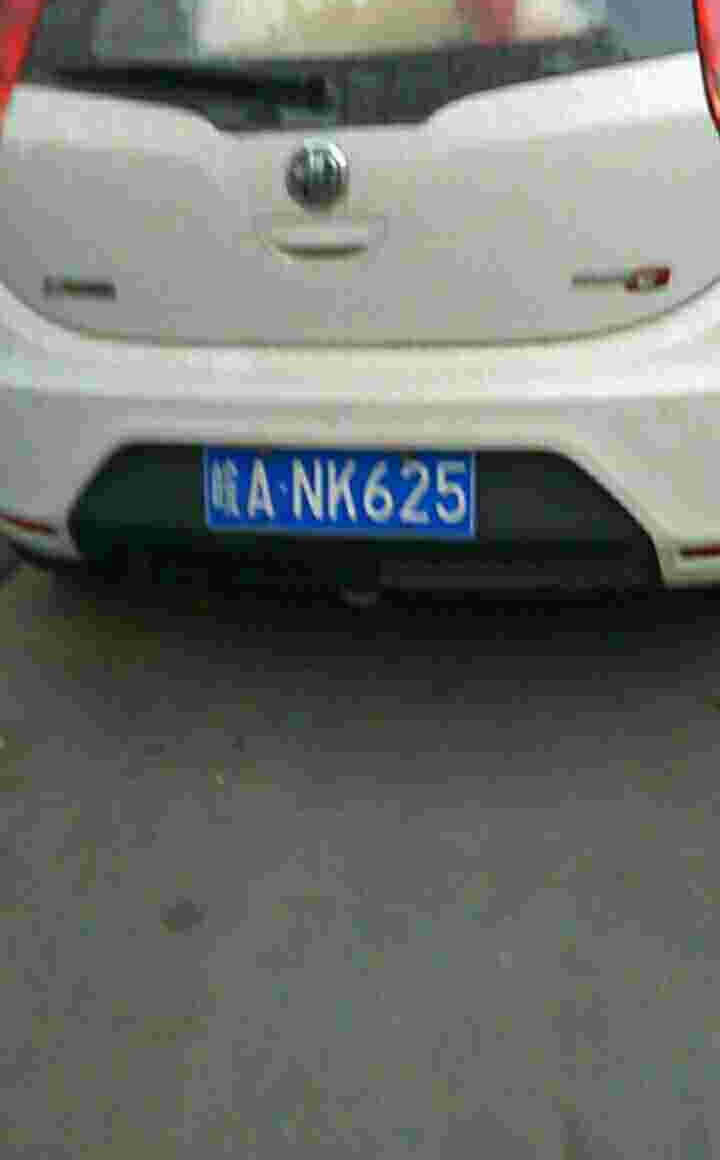plate: (201, 441, 481, 537)
